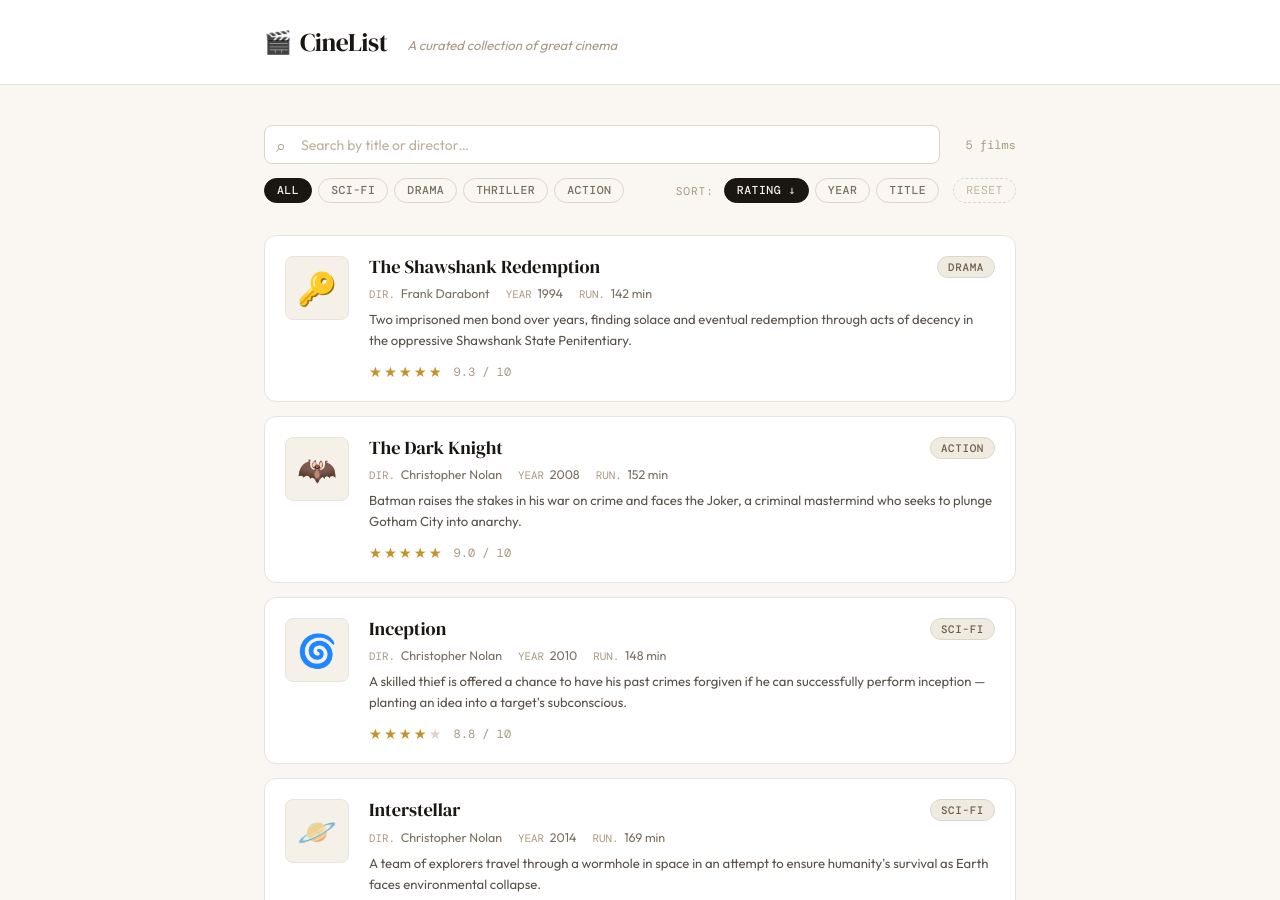
App integration › clears filters on reset button click
This screenshot has width=1280, height=900.
Type "Inception" into the search field with placeholder "Search by title or director…" at (602, 145), box [264, 125, 940, 164]
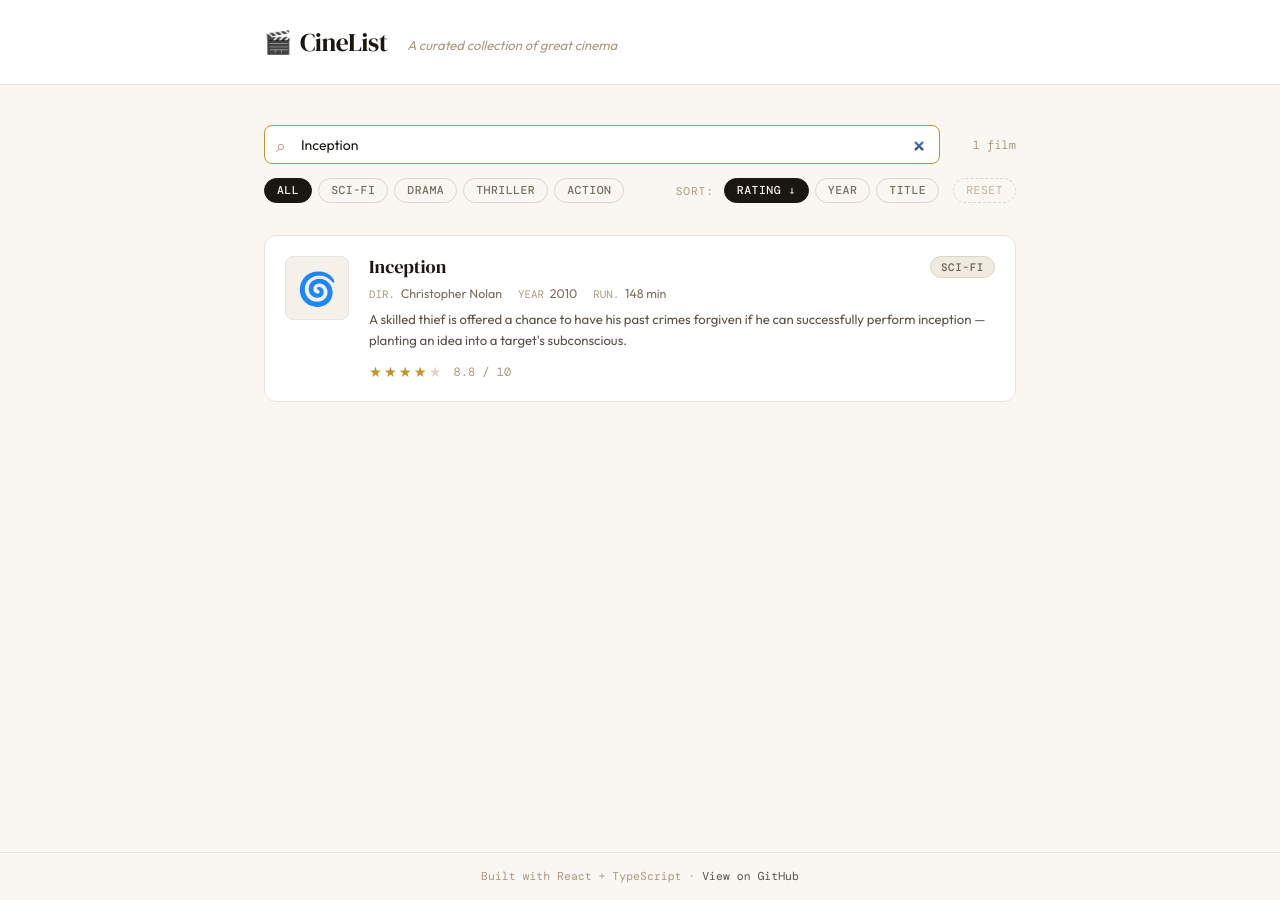
Expected: the number of elements with test id "movie-card" is 1, [264, 235, 1016, 402]
Click the button with aria-label "reset filters" at (985, 191), box [953, 178, 1016, 203]
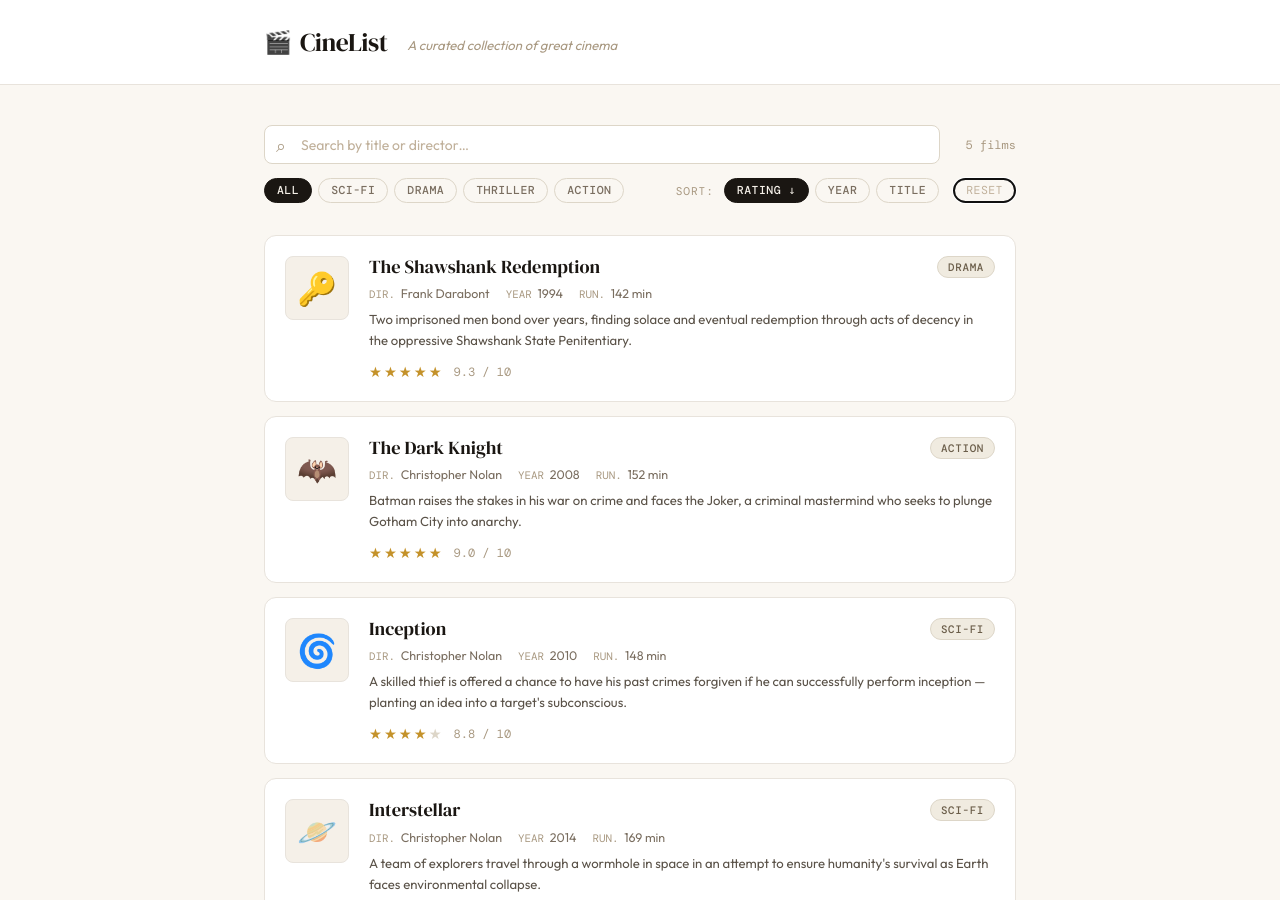
Expected: the number of elements with test id "movie-card" is 5
